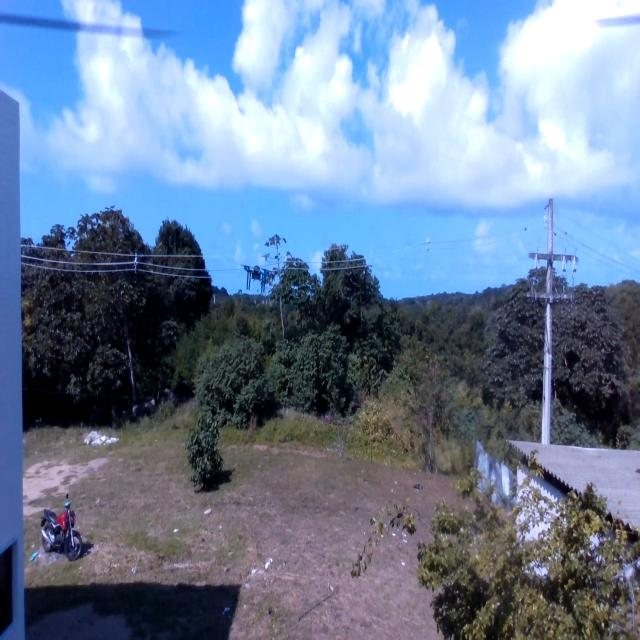-uav-: (240, 253, 277, 307)
